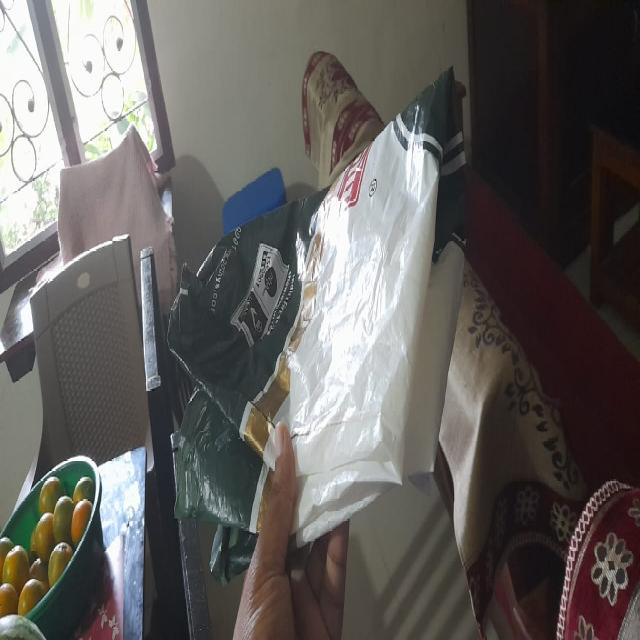Plastic - Recyclable: (166, 63, 464, 574)
